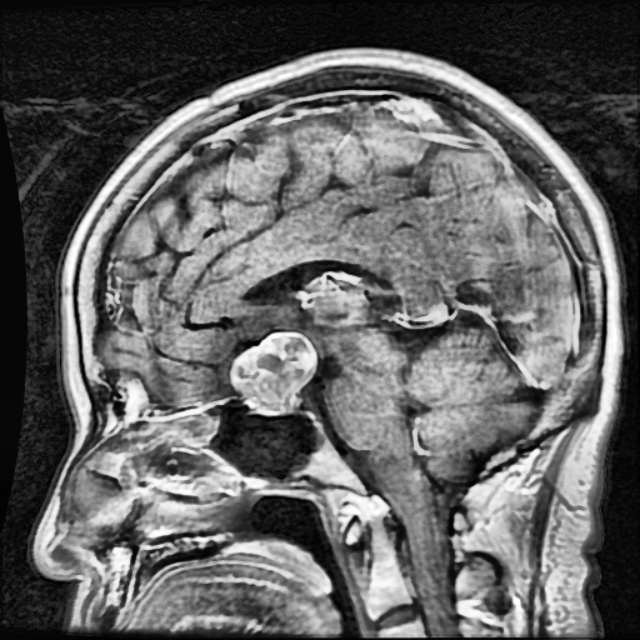Pituitary: (229, 330, 317, 414)
